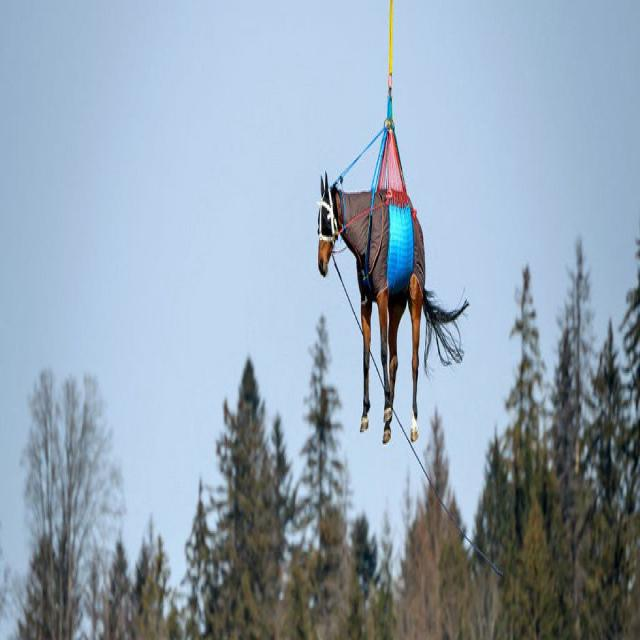Horse: (316, 165, 428, 437)
